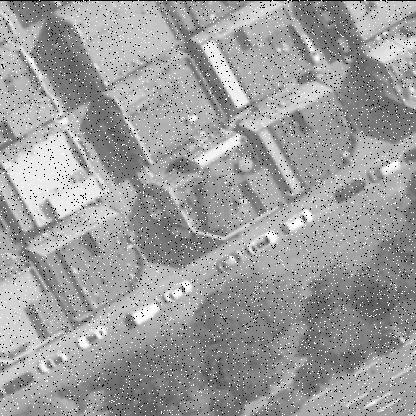solar-pv-panel: (201, 174, 230, 230)
